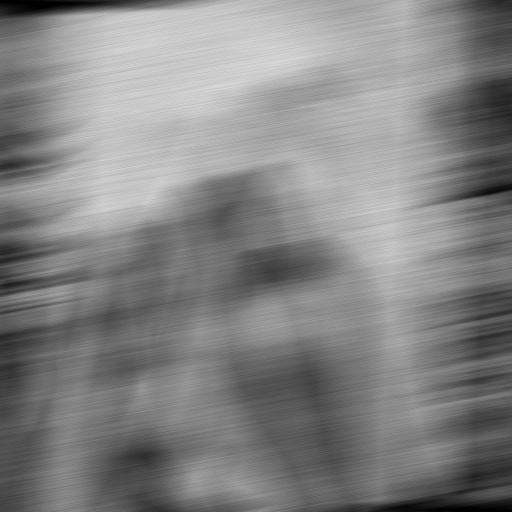bottom_right: (34, 409, 68, 424)
house: (58, 43, 421, 490)
